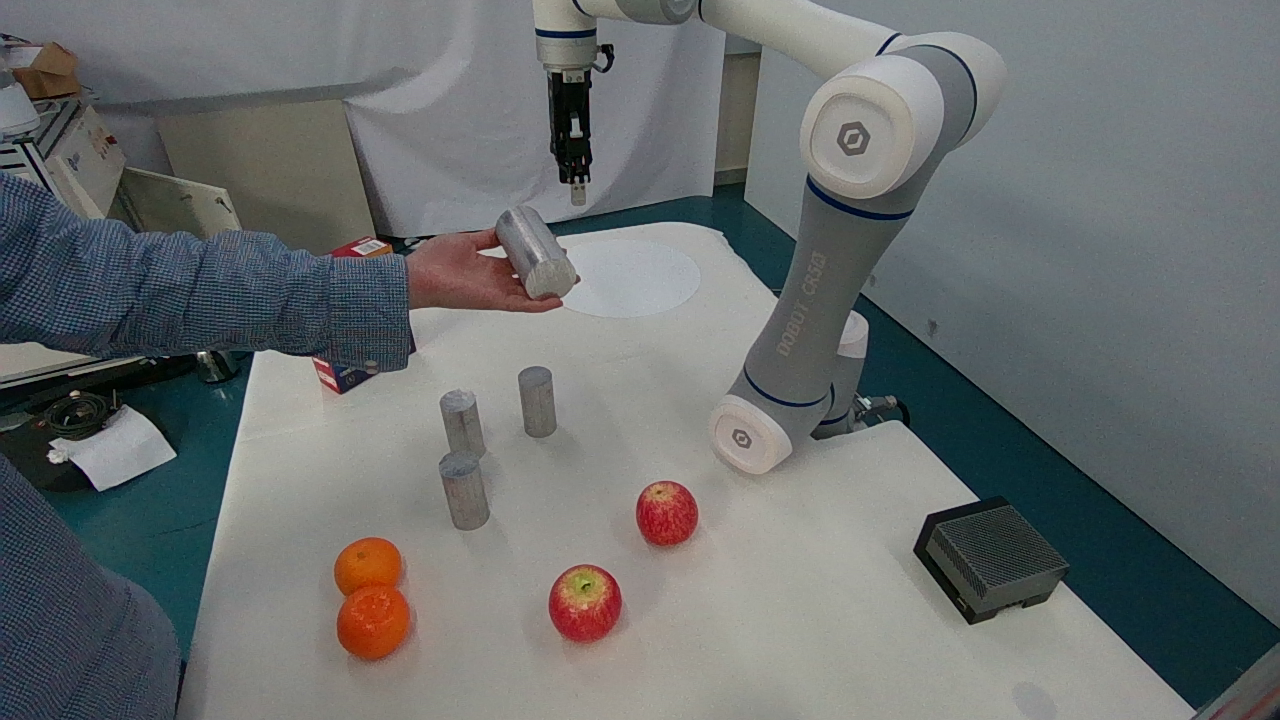apple: (532, 547, 641, 662), (625, 469, 709, 551)
metal rod: (481, 207, 589, 309), (429, 439, 508, 548), (424, 362, 499, 449), (506, 348, 565, 451)
orange: (333, 586, 420, 665), (322, 526, 415, 588)
